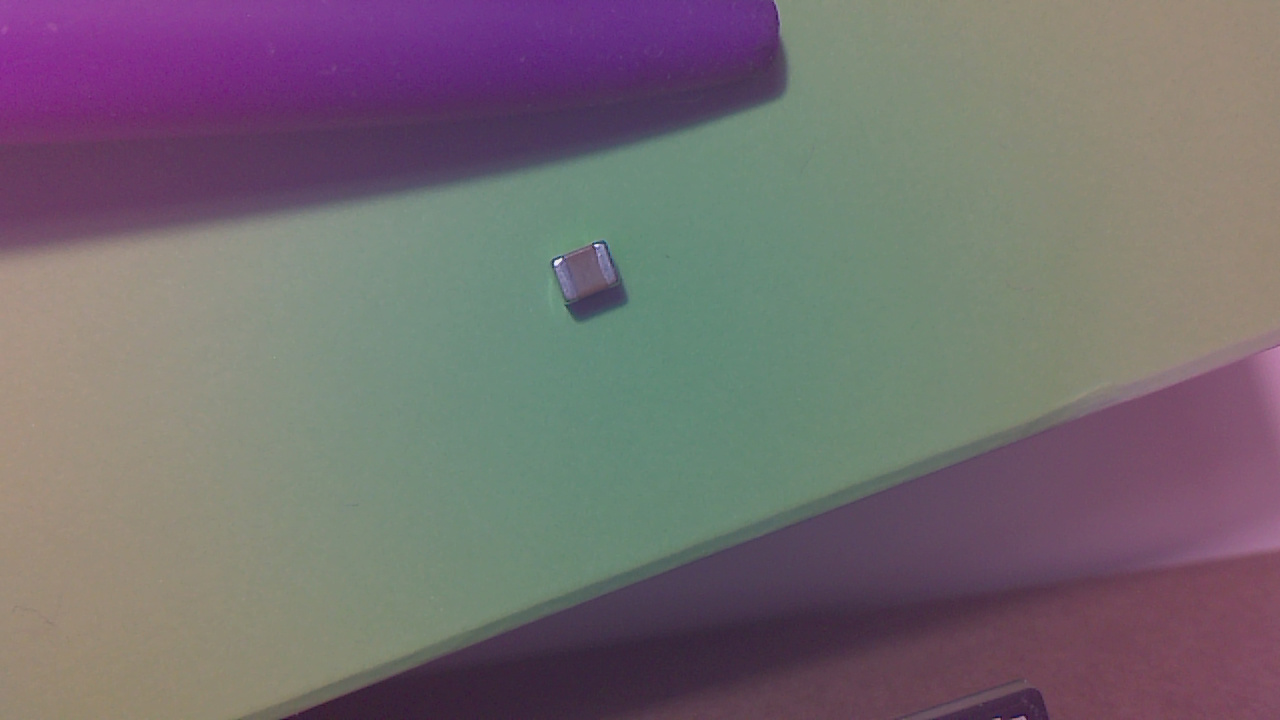Condensator: (554, 242, 631, 310)
